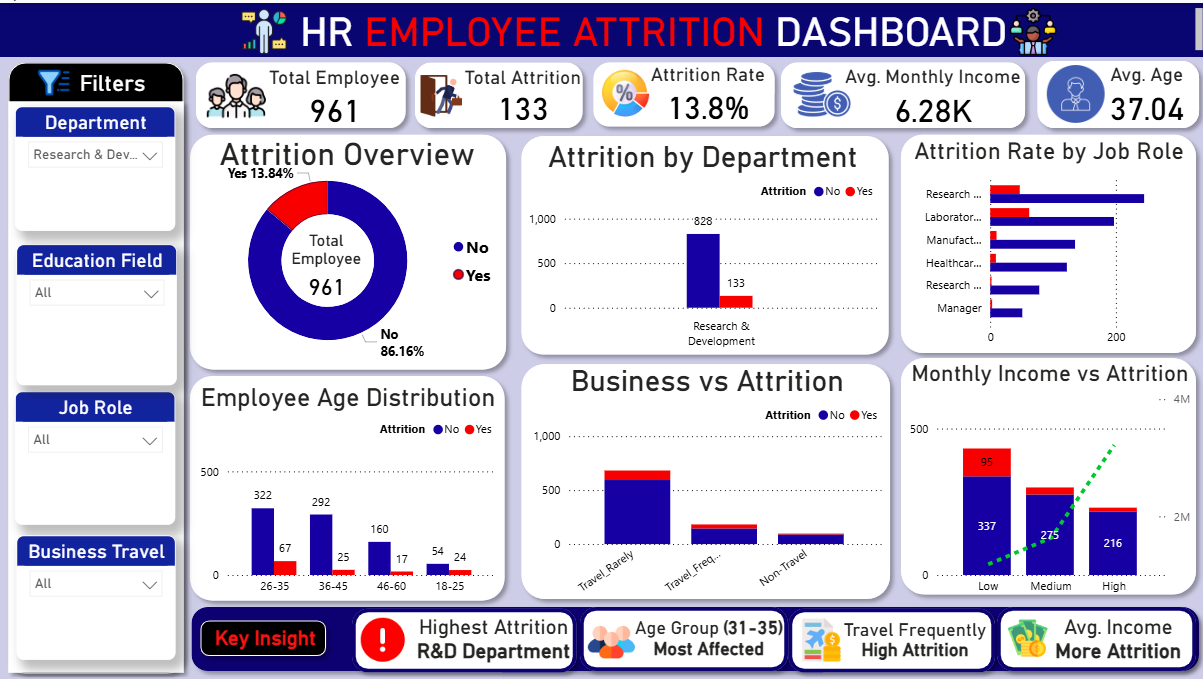

What the dashboard file says about the page in this screenshot:
{"tool":"powerbi","page":{"name":"Page 1","canvas":[1280,720],"ordinal":0},"visuals":[{"type":"shape","box":[0,57.3,1280.4,663.3],"z":0},{"type":"shape","box":[0,54.1,203.6,666.5],"z":1000},{"type":"shape","box":[198.8,54.1,240.2,87.5],"z":2000},{"type":"shape","box":[620.3,54.1,210,85.9],"z":3000},{"type":"shape","box":[431.1,54.1,195.6,87.5],"z":4000},{"type":"shape","box":[819.2,54.1,276.8,87.5],"z":5000},{"type":"shape","box":[544,132,407.2,249.7],"z":6000},{"type":"shape","box":[946.4,130.4,330.8,249.7],"z":7000},{"type":"shape","box":[1091.2,52.5,189.3,89.1],"z":8000},{"type":"shape","box":[192.5,130.4,353.1,267.2],"z":9000},{"type":"shape","box":[544,373.8,408.8,267.2],"z":10000},{"type":"shape","box":[192.5,386.5,351.5,256.1],"z":11000},{"type":"card","title":"Total Employee","fields":{"Values":["CountNonNull(hr_attrition csv.Age)"]},"box":[270.4,66.8,168.6,65.2],"z":12000},{"type":"card","title":"Total Attrition","fields":{"Values":["CountNonNull(hr_attrition csv.Attrition)"]},"box":[475.6,65.2,144.7,73.2],"z":13000},{"type":"card","title":"Avg. Monthly Income","fields":{"Values":["Avg(hr_attrition csv.MonthlyIncome)"]},"box":[882.8,65.2,213.1,68.4],"z":14000},{"type":"donutChart","title":"Attrition Overview","fields":{"Category":["hr_attrition csv.Attrition"],"Y":["CountNonNull(hr_attrition csv.Attrition)"]},"box":[210,135.2,324.5,275.2],"z":15000},{"type":"card","title":"Attrition Rate","fields":{"Values":["hr_attrition csv.Attrition %"]},"box":[685.6,63.6,133.6,65.2],"z":16000},{"type":"card","title":"Avg. Age","fields":{"Values":["Avg(hr_attrition csv.Age)"]},"box":[1161.1,63.6,109.8,66.8],"z":17000},{"type":"textbox","box":[219.5,135.2,297.4,54.1],"z":18000},{"type":"card","title":"Total Employee","fields":{"Values":["CountNonNull(hr_attrition csv.Age)"]},"box":[289.5,241.8,112.9,77.9],"z":19000},{"type":"clusteredColumnChart","title":"Attrition by Department","fields":{"Series":["hr_attrition csv.Attrition"],"Category":["hr_attrition csv.Department"],"Y":["CountNonNull(hr_attrition csv.Attrition)"]},"box":[555.1,144.7,380.2,229],"z":20000},{"type":"columnChart","title":"Business Travel Impact on Attrition","fields":{"Category":["hr_attrition csv.BusinessTravel"],"Y":["CountNonNull(hr_attrition csv.Attrition)"],"Series":["hr_attrition csv.Attrition"]},"box":[559.9,381.7,380.2,257.7],"z":21000},{"type":"clusteredColumnChart","title":"Attrition by Age Group","fields":{"Series":["hr_attrition csv.Attrition"],"Y":["CountNonNull(hr_attrition csv.Age)"],"Category":["hr_attrition csv.Age(group)"]},"box":[205.2,396.1,324.5,248.1],"z":22000},{"type":"shape","box":[946.4,367.4,330.8,268.8],"z":23000},{"type":"clusteredBarChart","title":"Attrition Rate by Job Role","fields":{"Category":["hr_attrition csv.JobRole"],"Y":["CountNonNull(hr_attrition csv.Attrition)"],"Series":["hr_attrition csv.Attrition"]},"box":[960.7,141.6,303.8,230.6],"z":24000},{"type":"lineStackedColumnComboChart","title":"Attrition by Income Band","fields":{"Y":["CountNonNull(hr_attrition csv.Attrition)"],"Category":["hr_attrition csv.Income Band"],"Y2":["Sum(hr_attrition csv.MonthlyIncome)"],"Series":["hr_attrition csv.Attrition"]},"box":[959.1,378.6,308.6,257.7],"z":25000},{"type":"shape","box":[0,95.4,203.6,623.5],"z":26000},{"type":"textbox","box":[112.9,0,1167.5,57.3],"z":27000},{"type":"slicer","title":"Job Role","fields":{"Values":["hr_attrition csv.JobRole"]},"box":[15.9,412,170.2,141.6],"z":28000},{"type":"slicer","title":"Education Field","fields":{"Values":["hr_attrition csv.EducationField"]},"box":[17.5,256.1,170.2,149.5],"z":29000},{"type":"slicer","title":"Department","fields":{"Values":["hr_attrition csv.Department"]},"box":[15.9,109.8,170.2,132],"z":30000},{"type":"slicer","title":"Business Travel","fields":{"Values":["hr_attrition csv.BusinessTravel"]},"box":[17.5,564.7,168.6,132],"z":31000},{"type":"shape","box":[194.1,631.5,1086.4,85.9],"z":32000},{"type":"shape","box":[606,631.5,238.6,85.9],"z":33000},{"type":"shape","box":[827.1,633.1,237,85.9],"z":34000},{"type":"shape","box":[1048.2,631.5,229,85.9],"z":35000},{"type":"shape","box":[364.2,633.1,256.1,85.9],"z":36000},{"type":"shape","box":[203.6,645.8,151.1,55.7],"z":37000},{"type":"textbox","box":[419.9,644.2,206.8,65.2],"z":38000},{"type":"textbox","box":[660.1,645.8,182.9,55.7],"z":39000},{"type":"textbox","box":[873.2,647.4,194.1,65.2],"z":40000},{"type":"textbox","box":[1094.3,644.2,182.9,63.6],"z":41000},{"type":"textbox","box":[216.3,655.3,130.4,39.8],"z":42000},{"type":"image","box":[210,62,81.1,73.2],"z":43000},{"type":"image","box":[633.1,62,60.4,66.8],"z":44000},{"type":"image","box":[440.6,68.4,54.1,60.4],"z":45000},{"type":"image","box":[828.7,52.5,85.9,89.1],"z":46000},{"type":"image","box":[1100.7,60.4,79.5,71.6],"z":47000},{"type":"image","box":[373.8,637.8,63.6,74.8],"z":48000},{"type":"image","box":[614,647.4,68.4,60.4],"z":49000},{"type":"image","box":[835.1,644.2,71.6,62],"z":50000},{"type":"image","box":[1062.5,641,54.1,65.2],"z":51000},{"type":"image","box":[27,60.4,60.4,47.7],"z":52000},{"type":"textbox","box":[79.5,65.2,93.8,39.8],"z":53000},{"type":"image","box":[0,0,559.9,60.4],"z":54000},{"type":"image","box":[914.6,0,362.7,60.4],"z":55000}]}

Visuals, with their boxes in screenshot pixels (x1, y1, x2, y2), scaled from the page's 1280x720 canvas onto the 1203x679 screenshot:
shape: <box>0,54,1202,678</box>
shape: <box>0,51,191,678</box>
shape: <box>187,51,413,134</box>
shape: <box>583,51,780,132</box>
shape: <box>405,51,589,134</box>
shape: <box>770,51,1030,134</box>
shape: <box>511,124,894,360</box>
shape: <box>889,123,1200,358</box>
shape: <box>1026,50,1202,134</box>
shape: <box>181,123,513,375</box>
shape: <box>511,353,895,604</box>
shape: <box>181,364,511,606</box>
"Total Employee" card: <box>254,63,413,124</box>
"Total Attrition" card: <box>447,61,583,131</box>
"Avg. Monthly Income" card: <box>830,61,1030,126</box>
"Attrition Overview" donutChart: <box>197,128,502,387</box>
"Attrition Rate" card: <box>644,60,770,121</box>
"Avg. Age" card: <box>1091,60,1194,123</box>
textbox: <box>206,128,486,179</box>
"Total Employee" card: <box>272,228,378,301</box>
"Attrition by Department" clusteredColumnChart: <box>522,136,879,352</box>
"Business Travel Impact on Attrition" columnChart: <box>526,360,884,603</box>
"Attrition by Age Group" clusteredColumnChart: <box>193,374,498,608</box>
shape: <box>889,346,1200,600</box>
"Attrition Rate by Job Role" clusteredBarChart: <box>903,134,1188,351</box>
"Attrition by Income Band" lineStackedColumnComboChart: <box>901,357,1191,600</box>
shape: <box>0,90,191,678</box>
textbox: <box>106,0,1202,54</box>
"Job Role" slicer: <box>15,389,175,522</box>
"Education Field" slicer: <box>16,242,176,383</box>
"Department" slicer: <box>15,104,175,228</box>
"Business Travel" slicer: <box>16,533,175,657</box>
shape: <box>182,596,1202,677</box>
shape: <box>570,596,794,677</box>
shape: <box>777,597,1000,678</box>
shape: <box>985,596,1200,677</box>
shape: <box>342,597,583,678</box>
shape: <box>191,609,333,662</box>
textbox: <box>395,608,589,669</box>
textbox: <box>620,609,792,662</box>
textbox: <box>821,611,1003,672</box>
textbox: <box>1028,608,1200,667</box>
textbox: <box>203,618,326,656</box>
image: <box>197,58,274,128</box>
image: <box>595,58,652,121</box>
image: <box>414,65,465,121</box>
image: <box>779,50,860,134</box>
image: <box>1034,57,1109,124</box>
image: <box>351,601,411,672</box>
image: <box>577,611,641,667</box>
image: <box>785,608,852,666</box>
image: <box>999,604,1049,666</box>
image: <box>25,57,82,102</box>
textbox: <box>75,61,163,99</box>
image: <box>0,0,526,57</box>
image: <box>860,0,1200,57</box>
